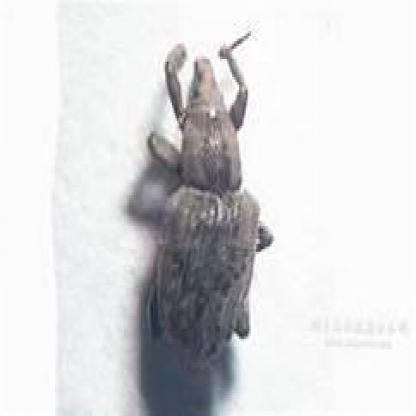rice-bug: (139, 37, 269, 366)
